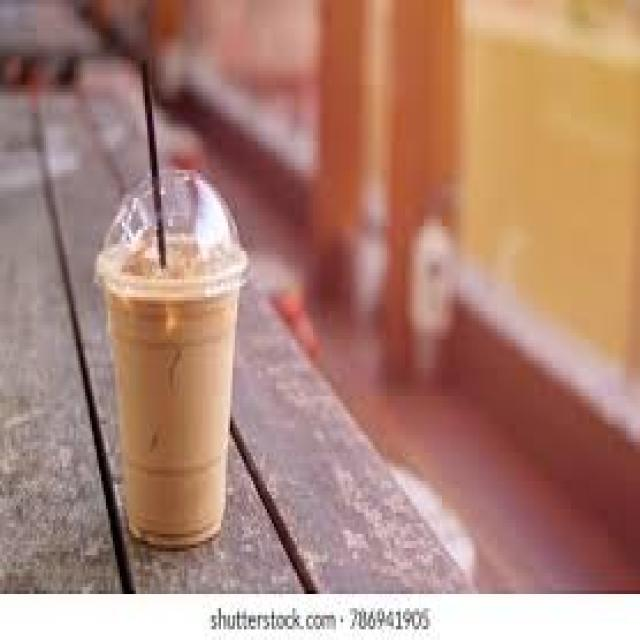bottle: (107, 293, 237, 546)
